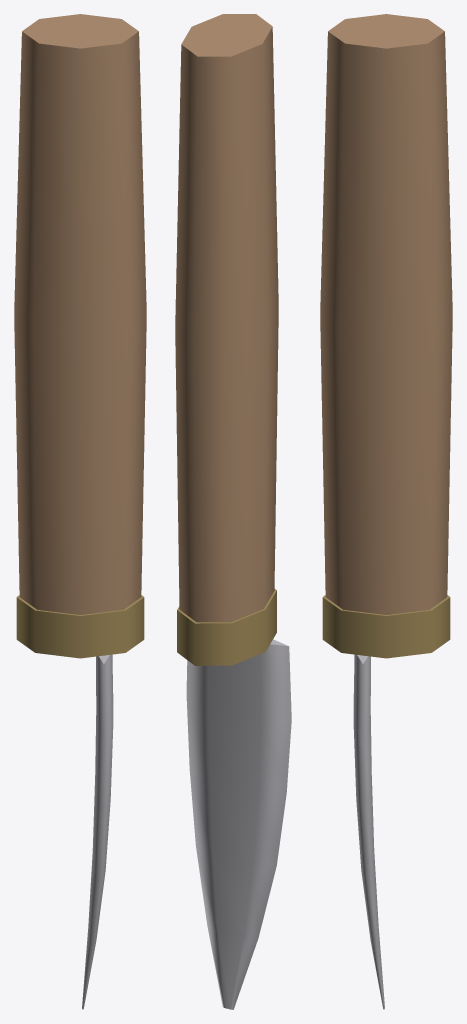
Rendered from father_knife.glb.
The picture shows the model from 3 angles, left to right: view 1: azimuth 90°, elevation 25°; view 2: azimuth 150°, elevation 25°; view 3: azimuth 270°, elevation 25°; orthographic projection.
Parts seen in each view (by area): view 1: father_knife; view 2: father_knife; view 3: father_knife.
Boxes of the visible parts, left/top/right/bottom form: father_knife: left=14, top=14, right=146, bottom=1009; father_knife: left=175, top=14, right=291, bottom=1009; father_knife: left=320, top=14, right=452, bottom=1009.
Bounding box in the file's own units: 0.0156 × 0.138 × 0.017.
